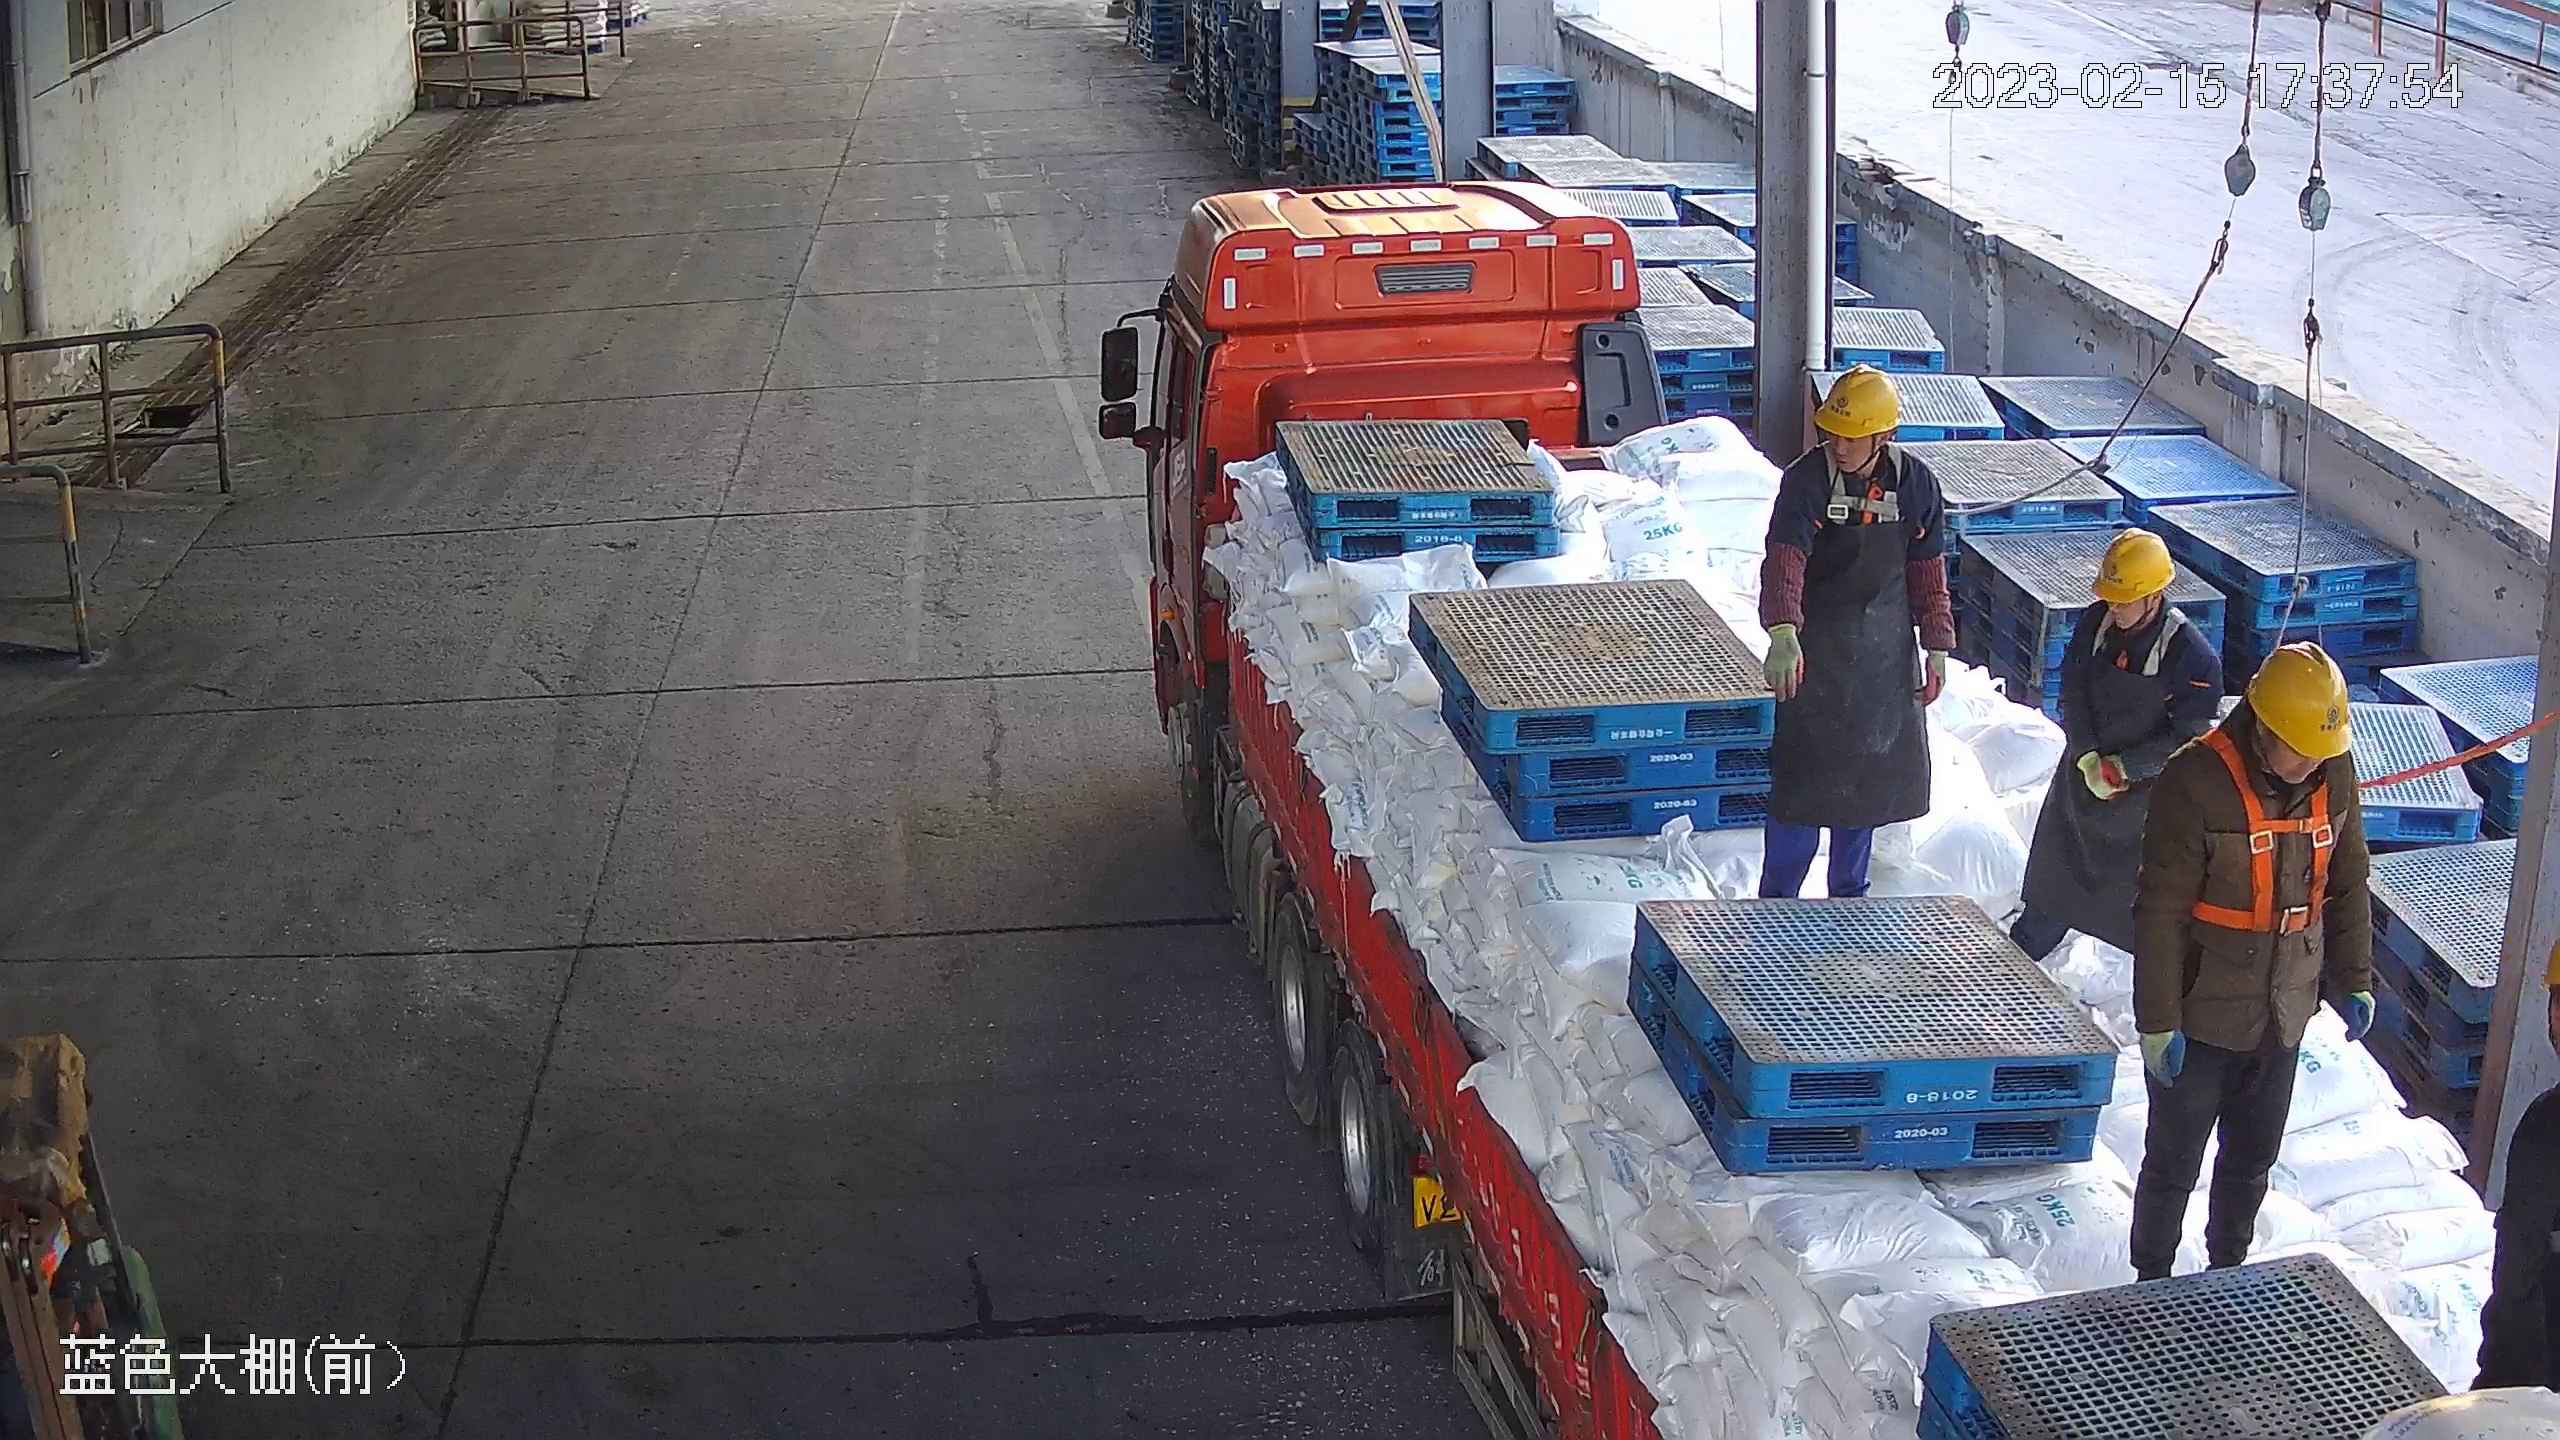belt: (2190, 730, 2336, 932), (2091, 602, 2190, 677), (1817, 439, 1904, 521)
head: (2143, 639, 2375, 835), (1775, 367, 1948, 524), (2069, 525, 2212, 686)
helmet: (2244, 639, 2354, 759), (2090, 525, 2176, 604), (1812, 367, 1899, 437)
people: (2127, 638, 2378, 1280), (1757, 367, 1957, 893), (2009, 526, 2225, 965)
truck: (1097, 180, 2560, 1440)
